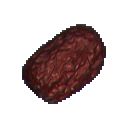gd: (16, 19, 111, 116)
